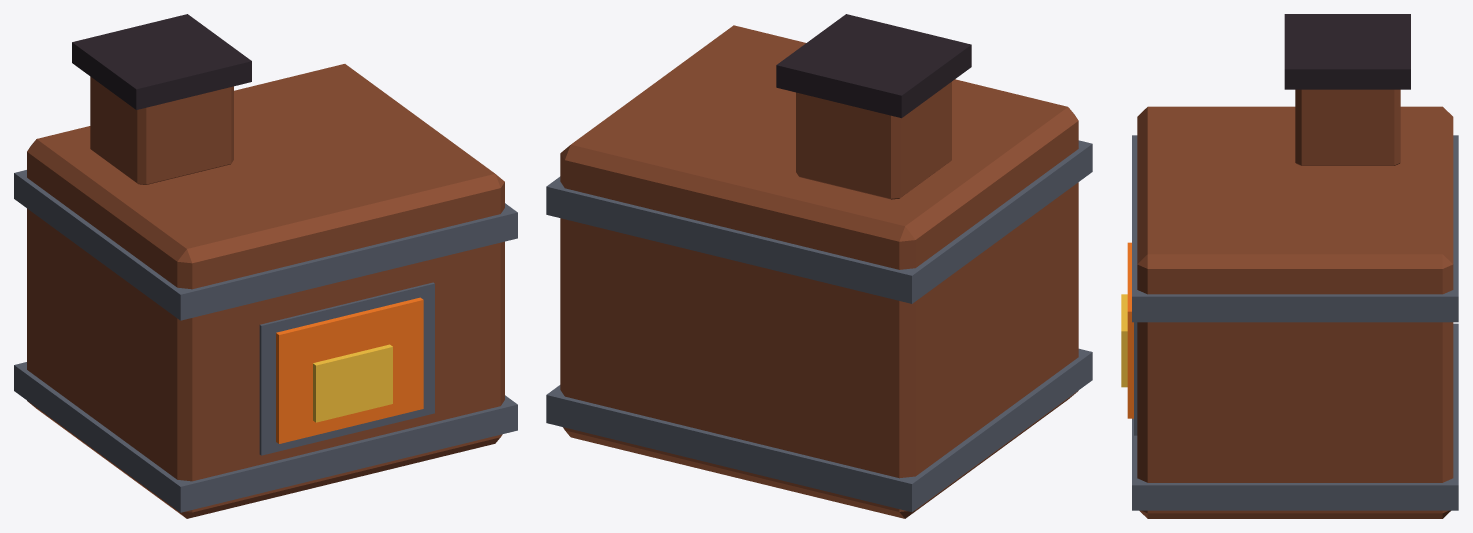
Rendered from env_r3_furnace.glb.
3 renders of one model, left to right at view 1: azimuth 30°, elevation 25°; view 2: azimuth 150°, elevation 25°; view 3: azimuth 270°, elevation 25°, orthographic. The views are drawn at different scales.
Parts seen in each view (by area): view 1: env_r3_furnace; view 2: env_r3_furnace; view 3: env_r3_furnace.
Part boxes in pixels (box(x1,y1,x2,y2)): env_r3_furnace: box(14, 14, 517, 518); env_r3_furnace: box(546, 14, 1092, 518); env_r3_furnace: box(1121, 14, 1458, 518).
Bounding box in the file's own units: 3.4 × 3.6 × 3.
1 material, 1 textured.
